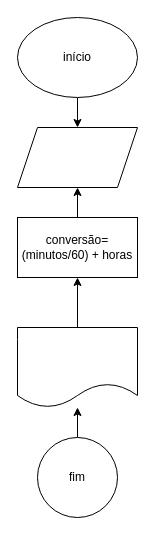
Image size: 155x535. Some labels were removed from this diagram. The shapes that lost their labels are listed below. From the top down, each one's centre as x and y in pixels, then its label:
At (x=77, y=157): "horas, minutos".
At (x=77, y=367): "horas convertido em decimais".
